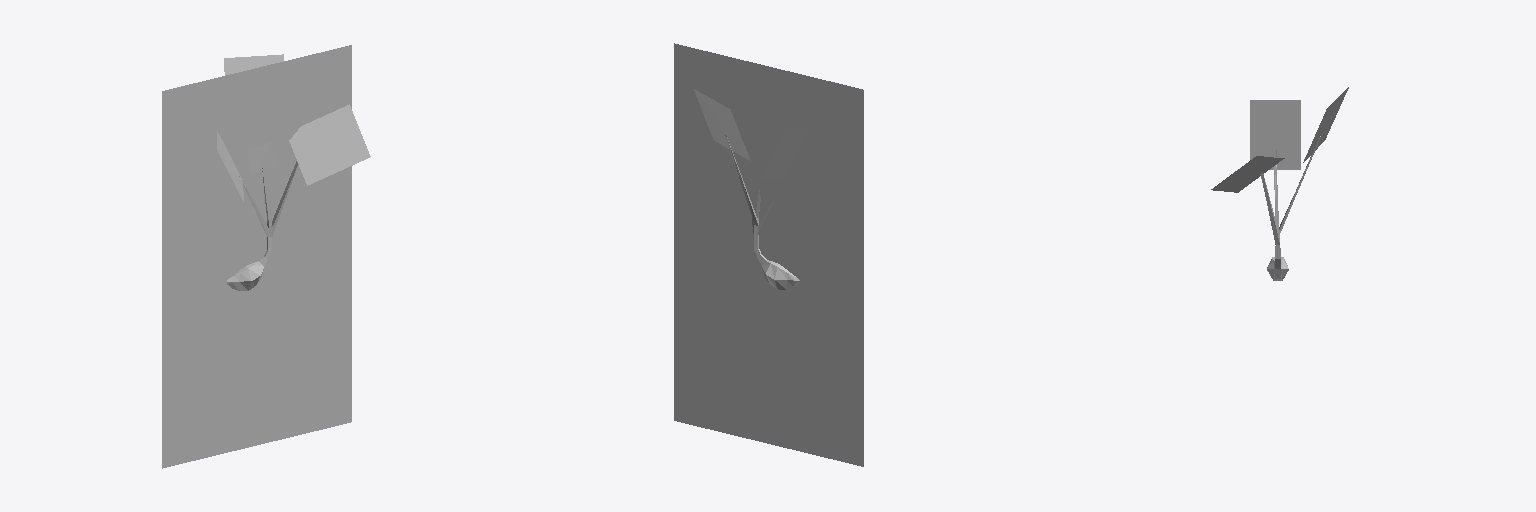
File: MODEL_ranunculusSeedling_G4_1.obj
The picture shows the model from 3 angles: view 1: azimuth 30°, elevation 25°; view 2: azimuth 150°, elevation 25°; view 3: azimuth 270°, elevation 25°; orthographic projection.
Parts seen in each view (by area): view 1: geo_seedling_low1 geo_roots_plane, geo_roots_plane1 geo_seedling_low1, geo_seedling_low1 geo_leaf1, geo_seedling_low1, geo_seedling_low1 geo_leaf, geo_seedling_low1 geo_leaf3, geo_seedling_low1 geo_leaf2; view 2: geo_seedling_low1 geo_roots_plane, geo_roots_plane1 geo_seedling_low1, geo_seedling_low1 geo_leaf, geo_seedling_low1, geo_seedling_low1 geo_leaf2; view 3: geo_seedling_low1 geo_leaf2, geo_seedling_low1, geo_seedling_low1 geo_leaf1, geo_seedling_low1 geo_leaf.
Part boxes in pixels (bbox=[...]): geo_seedling_low1 geo_roots_plane: bbox=[162, 224, 351, 468]; geo_roots_plane1 geo_seedling_low1: bbox=[162, 45, 351, 288]; geo_seedling_low1 geo_leaf1: bbox=[289, 104, 370, 185]; geo_seedling_low1: bbox=[226, 161, 298, 290]; geo_seedling_low1 geo_leaf: bbox=[224, 54, 283, 75]; geo_seedling_low1 geo_leaf3: bbox=[248, 141, 276, 174]; geo_seedling_low1 geo_leaf2: bbox=[217, 131, 243, 201]; geo_seedling_low1 geo_roots_plane: bbox=[674, 224, 863, 466]; geo_roots_plane1 geo_seedling_low1: bbox=[674, 43, 863, 288]; geo_seedling_low1 geo_leaf: bbox=[694, 89, 750, 160]; geo_seedling_low1: bbox=[725, 135, 799, 289]; geo_seedling_low1 geo_leaf2: bbox=[760, 129, 807, 179]; geo_seedling_low1 geo_leaf2: bbox=[1250, 100, 1300, 169]; geo_seedling_low1: bbox=[1260, 136, 1320, 280]; geo_seedling_low1 geo_leaf1: bbox=[1211, 156, 1284, 192]; geo_seedling_low1 geo_leaf: bbox=[1303, 87, 1348, 162].
Bounding box in the file's own units: 5.98 × 11.33 × 3.8.